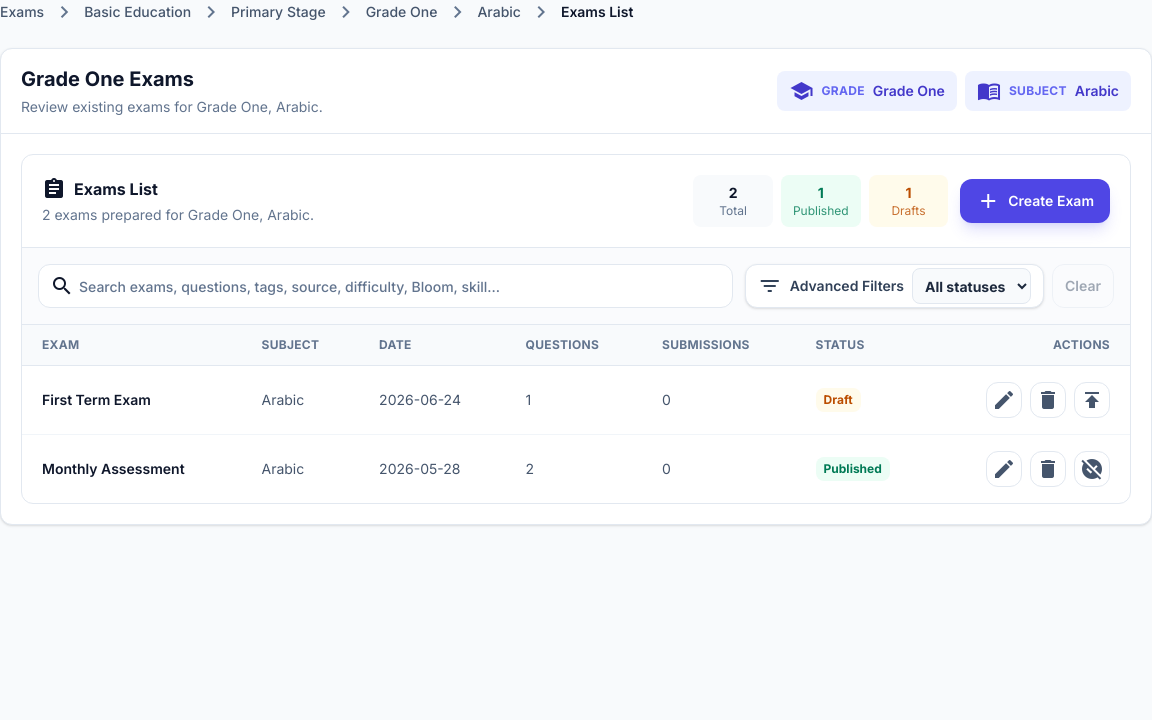
TenantExamsBasicEducationExamCreateComponent › opens a full drawer with linked exam questions when clicking an exam row
The image size is (1152, 720).
Click the button "First Term Exam Arabic 2026-06-24 1 0 Draft": (96, 400) [22,366,1130,434]
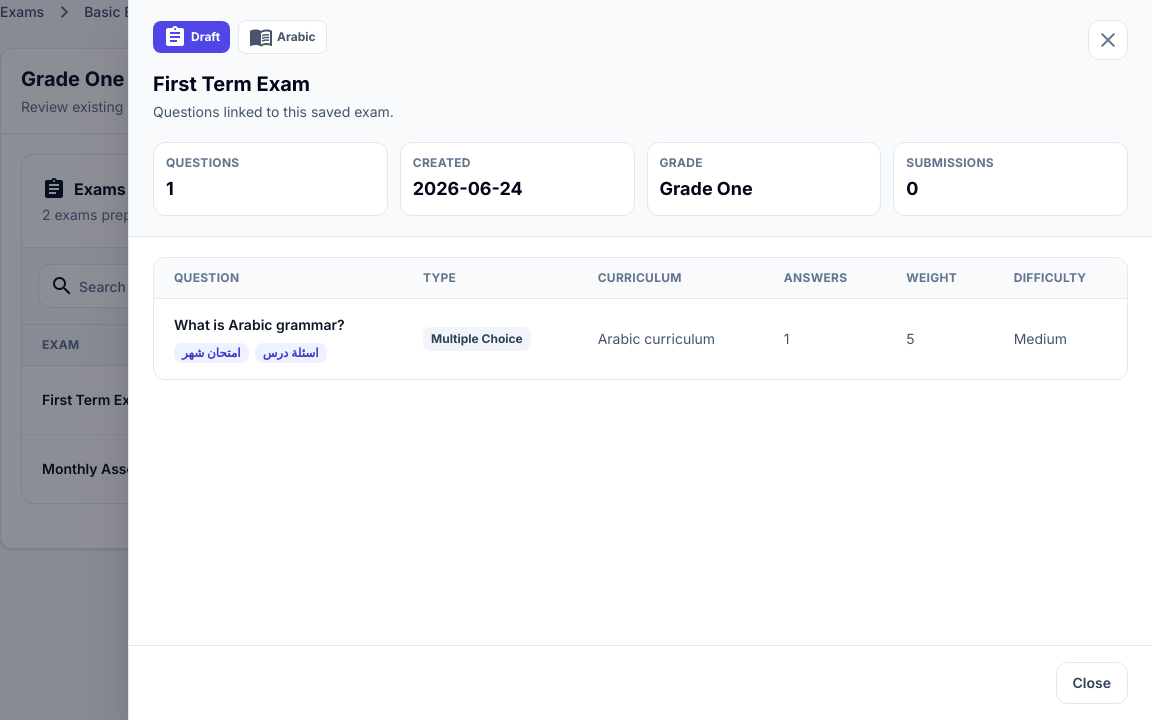
Expected: the dialog with id "exam-questions-drawer" is shown
Expected: the text "Questions linked to this saved exam." is shown, [153,102,394,122]
Expected: the text "What is Arabic grammar?" is shown, [174,316,345,333]
Click the button named "Close exam questions": (1108, 40) [1088,20,1128,60]
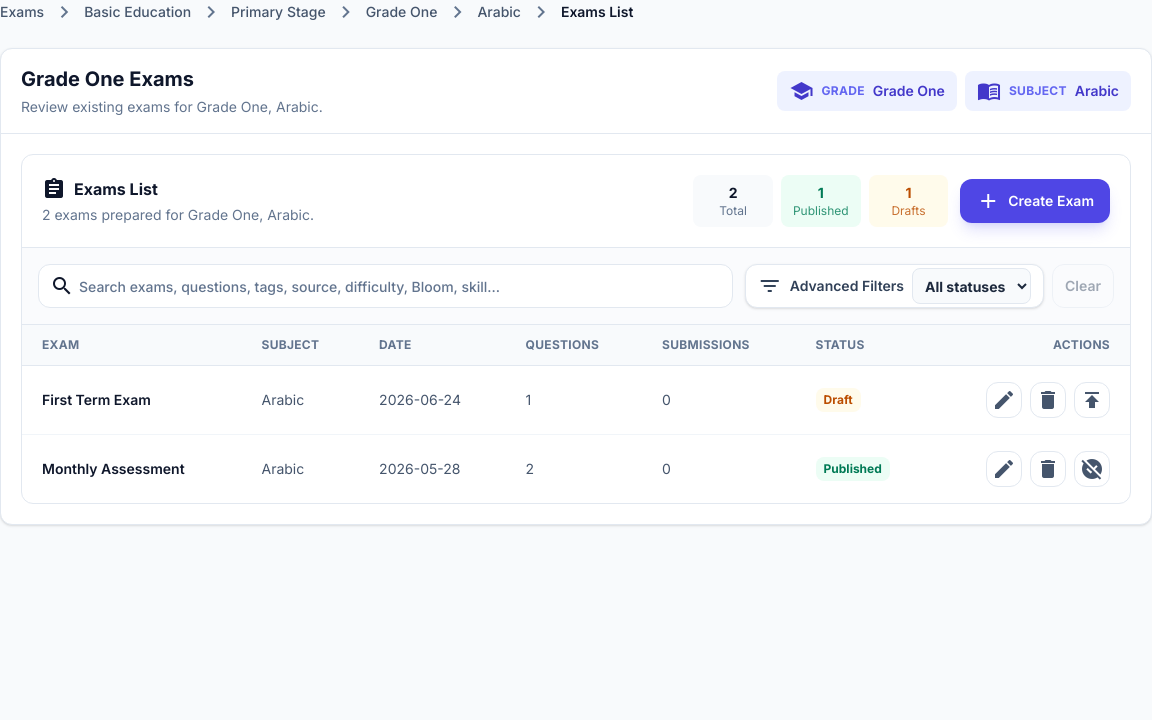
Expected: the dialog with id "exam-questions-drawer" is gone
